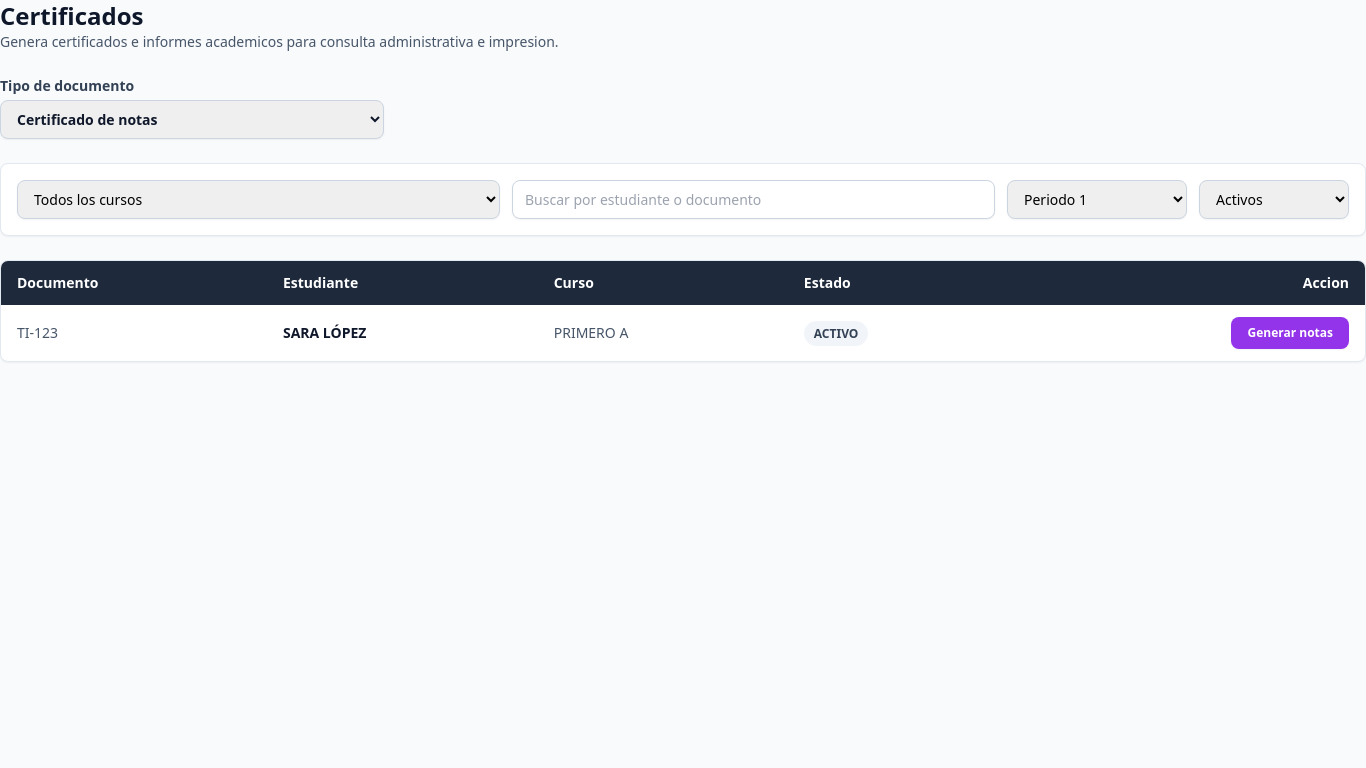
Test: Certificados con todos los estados (paso 6.10) › paz y salvo de un año pasado: revisa el año activo y, sin matrícula en él, el que se mira
Expected: the text "TI-123" is shown, [1,305,267,361]
Select "Certificado de paz y salvo" in the dropdown labelled "Tipo de documento" at (192, 120), box [0,100,384,139]
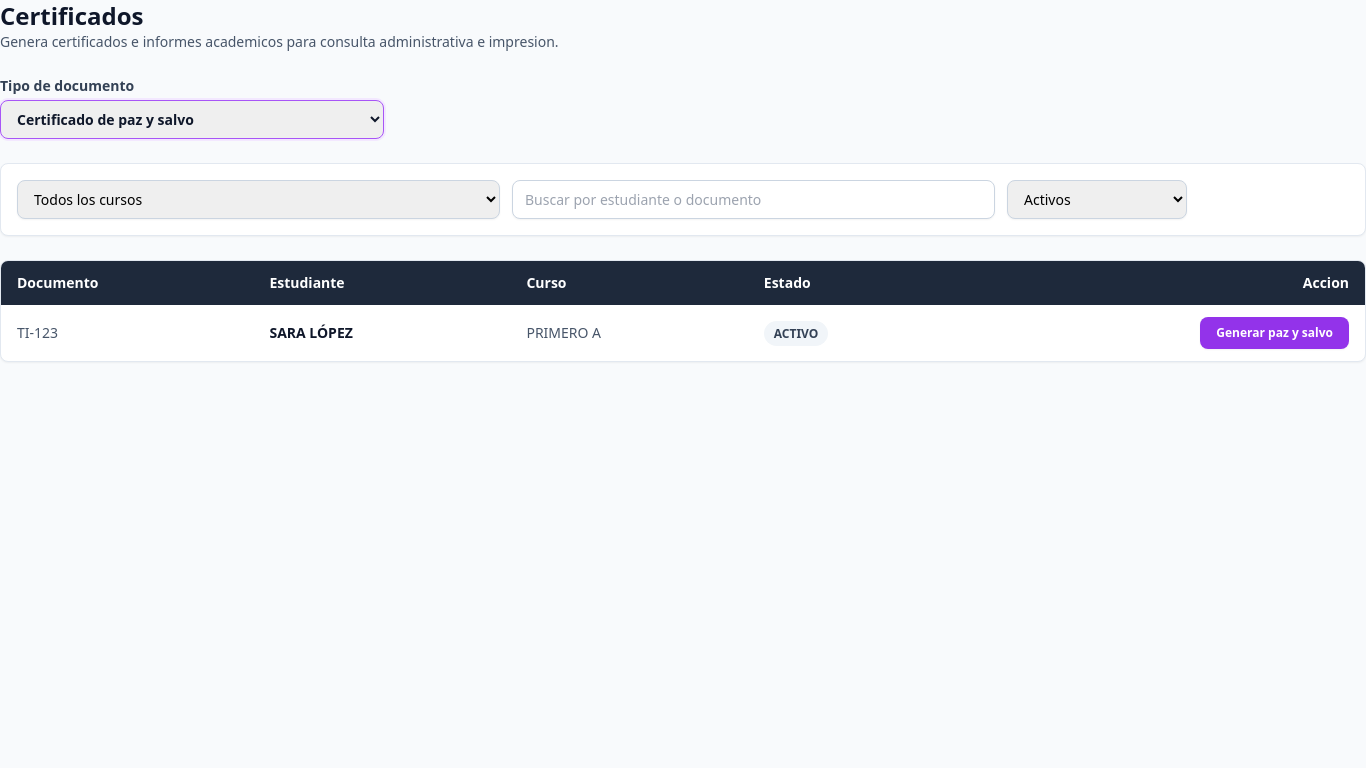
Click the button "Generar paz y salvo" at (1275, 333), box [1200,317,1349,349]
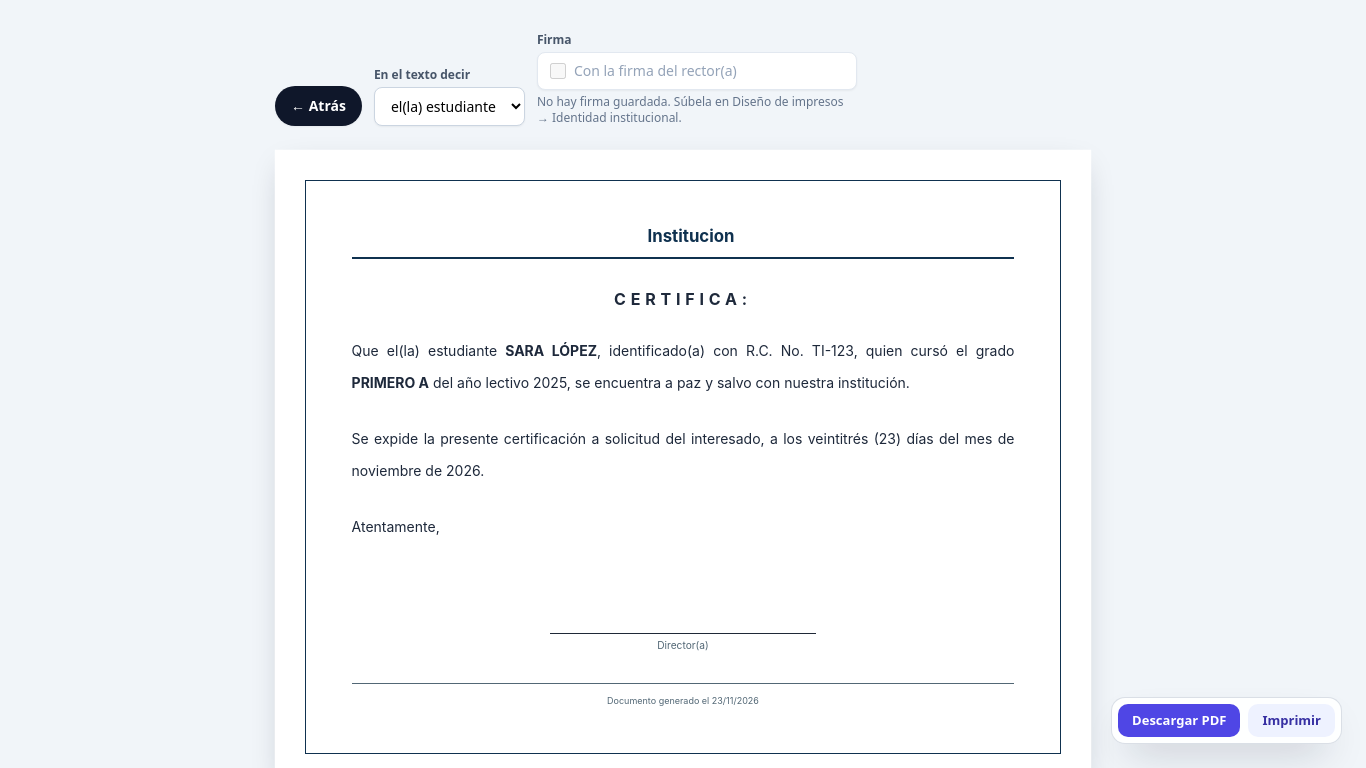
Result: the text "CERTIFICA:" is shown at [614,289,752,309]
